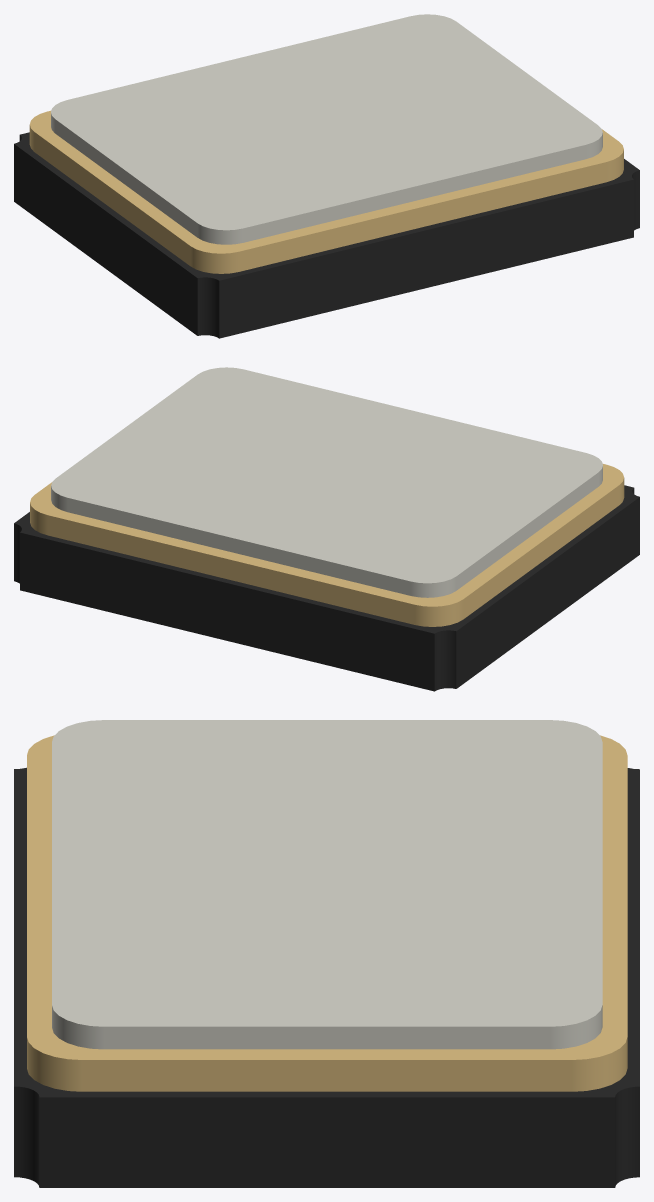
The model's file is Crystal_SMD_3225-4Pin_3.2x2.5mm.glb.
3 renders of one model, top to bottom at view 1: azimuth 30°, elevation 25°; view 2: azimuth 150°, elevation 25°; view 3: azimuth 270°, elevation 25°, orthographic. The views are drawn at different scales.
Parts seen in each view (by area): view 1: =>[0:1:1:3]; view 2: =>[0:1:1:3]; view 3: =>[0:1:1:3].
Boxes of the visible parts, x1,y1,x2,y2 form: =>[0:1:1:3]: (14, 14, 639, 338); =>[0:1:1:3]: (14, 367, 639, 691); =>[0:1:1:3]: (14, 720, 639, 1187).
Size of the model in its own units: 0.0032 by 0.00064 by 0.0025.
